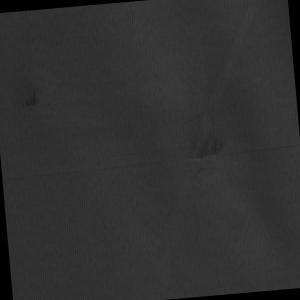Stain: (175, 75, 233, 168), (12, 70, 44, 115)
Wrinkle: (135, 1, 293, 244)
